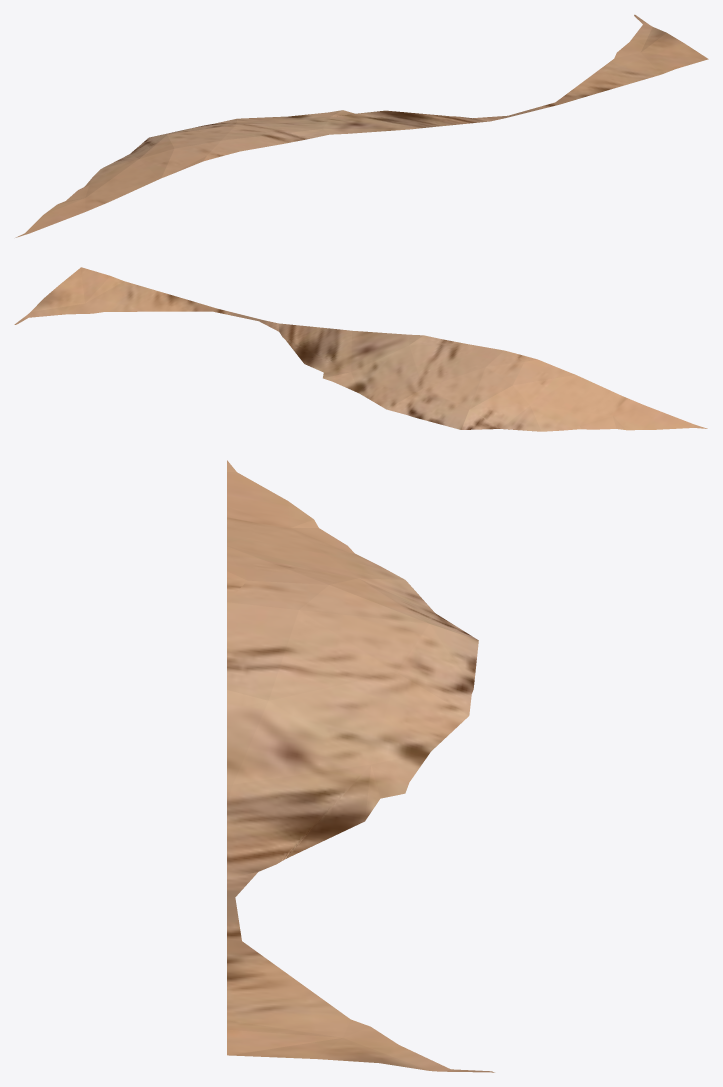
3 renders of one model, top to bottom at view 1: azimuth 30°, elevation 25°; view 2: azimuth 150°, elevation 25°; view 3: azimuth 270°, elevation 25°, orthographic. The views are drawn at different scales.
Bounding box in the file's own units: 1.22 × 0.0534 × 0.2264.
1 material, 1 textured.
